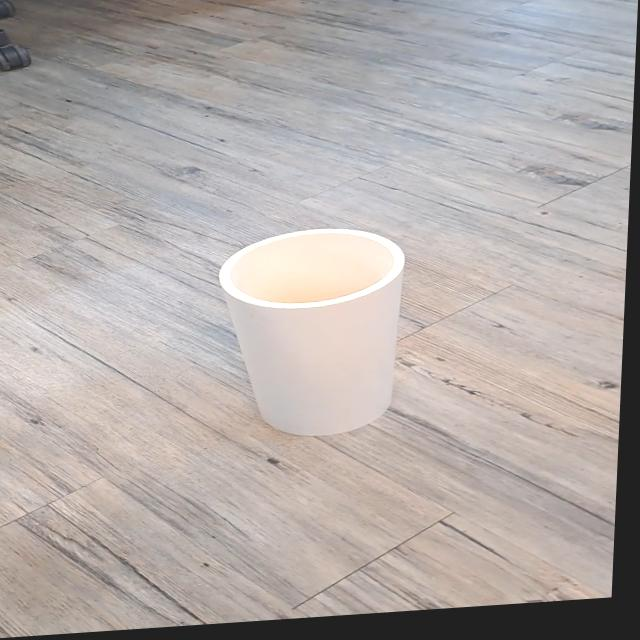CORAL: (180, 202, 466, 476)
